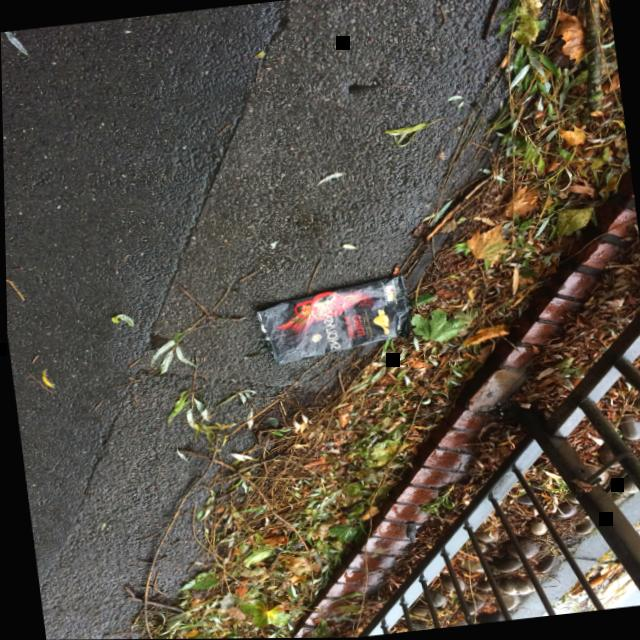Crisp packet: (254, 274, 409, 366)
